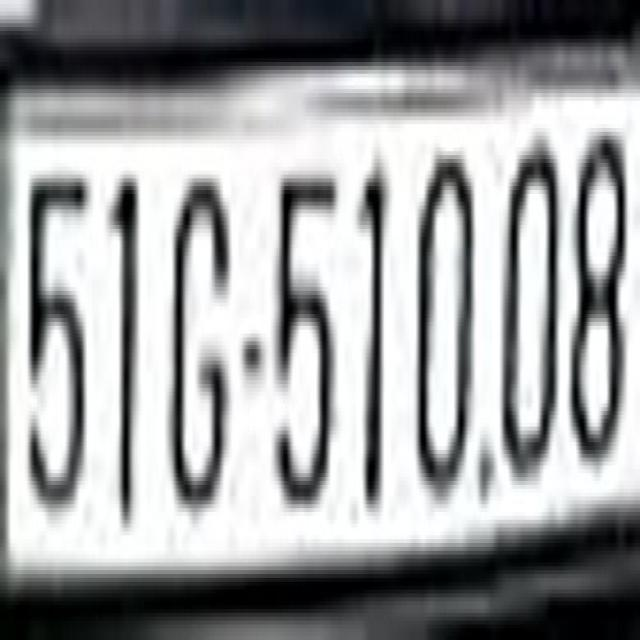0: (409, 124, 474, 500), (498, 120, 557, 504)
1: (102, 132, 152, 531), (349, 128, 393, 524)
5: (272, 124, 336, 528), (26, 140, 88, 535)
8: (567, 105, 627, 492)
G: (170, 128, 231, 535)
